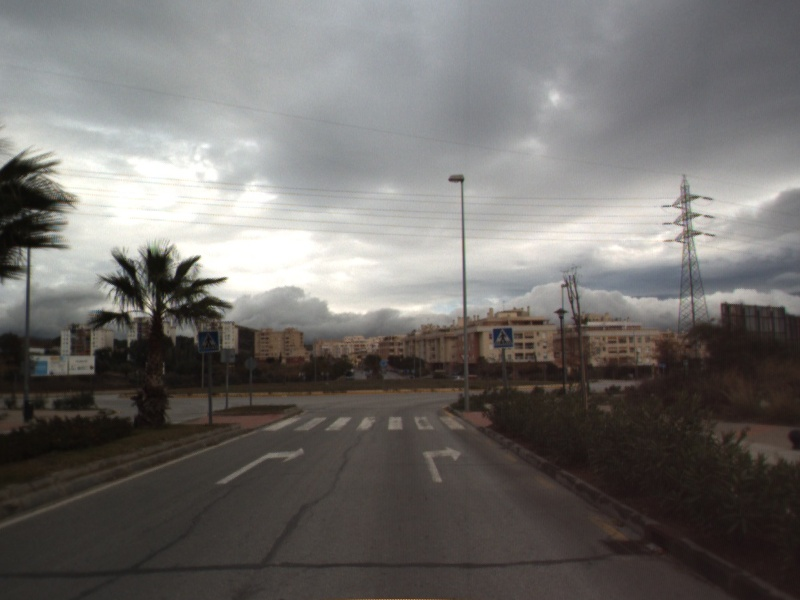RIGHT: (214, 446, 306, 486), (421, 444, 464, 484)
